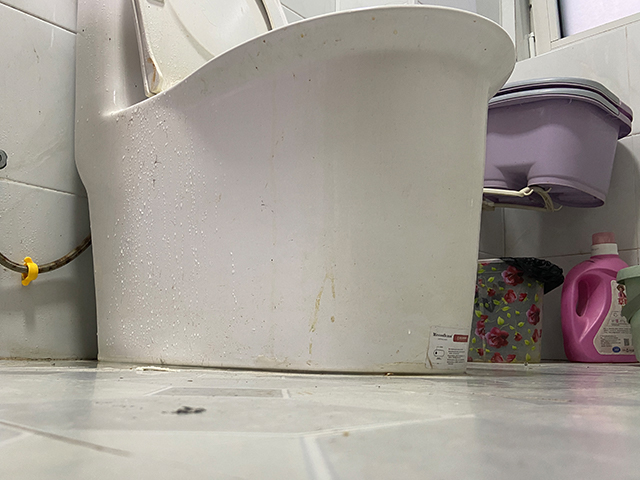closestool: (74, 1, 517, 376)
trashcan: (471, 257, 563, 365)
